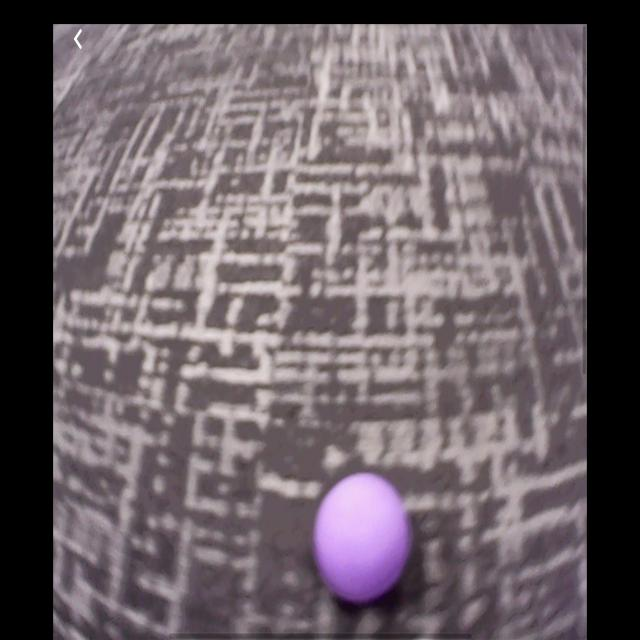ball: (314, 471, 412, 607)
